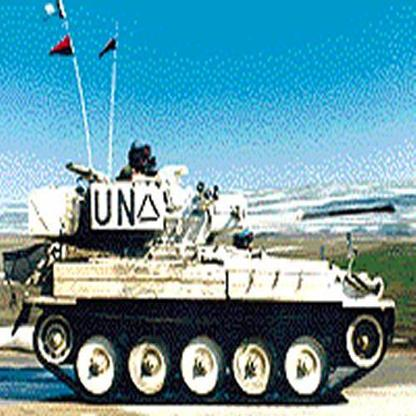Tank: (3, 140, 416, 416)
